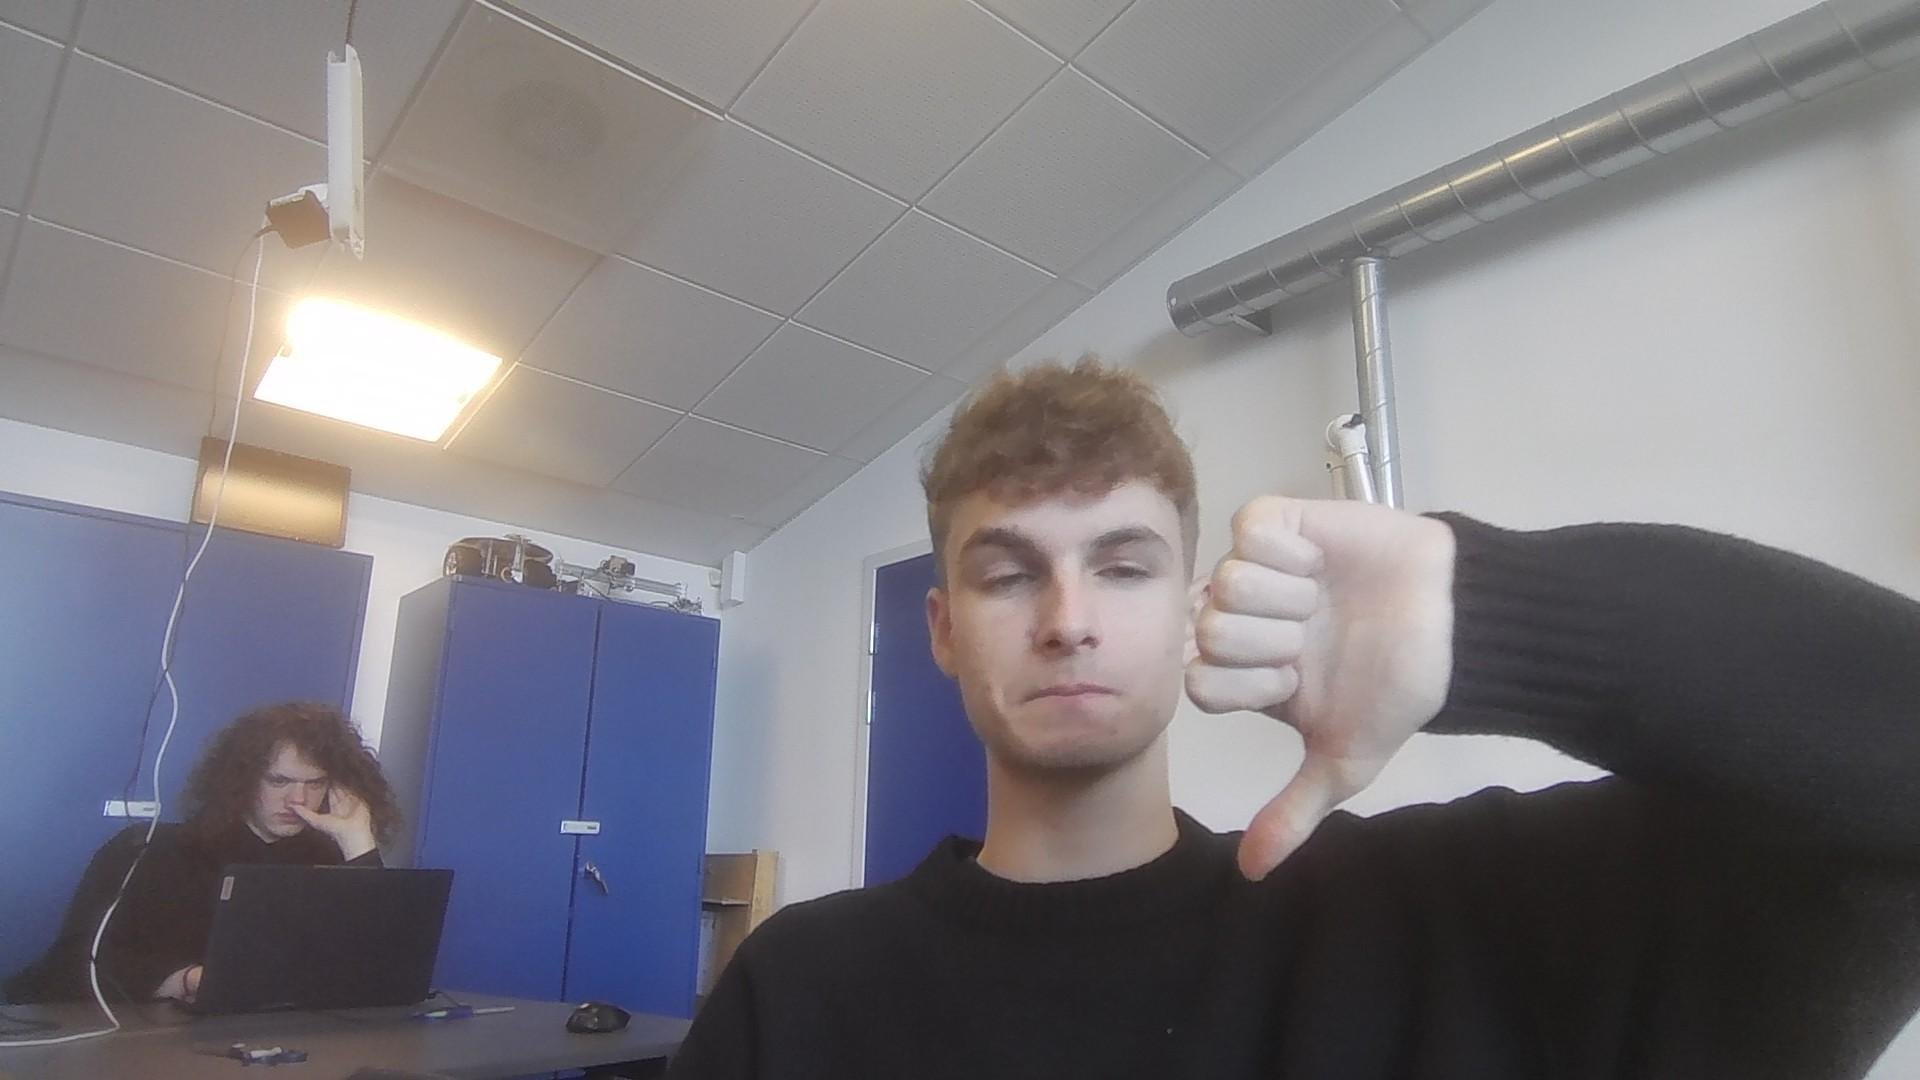thumbs down: (1174, 488, 1468, 891)
